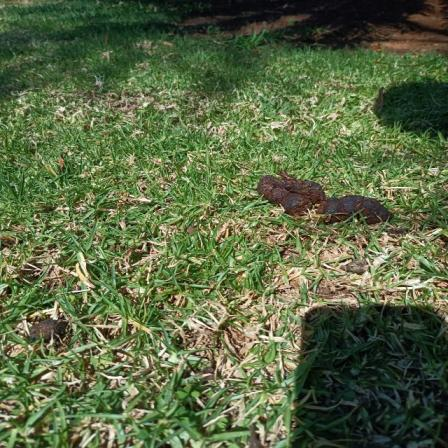dog-poop: (254, 163, 386, 234)
